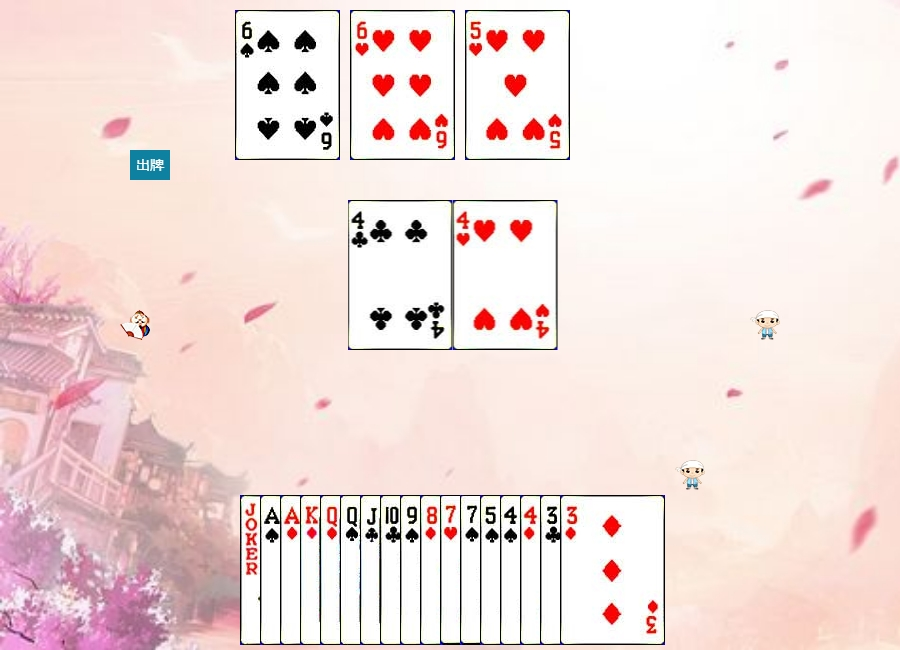10~2: (380, 495, 485, 645)
11~2: (360, 495, 465, 645)
12~1: (320, 495, 425, 645)
12~4: (340, 495, 445, 645)
13~1: (300, 495, 405, 645)
14~1: (280, 495, 385, 645)
14~4: (260, 495, 365, 645)
18~4: (240, 495, 345, 645)
3~1: (560, 495, 665, 645)
3~2: (540, 495, 645, 645)
4~1: (520, 495, 625, 645)
4~2: (348, 200, 453, 350)
4~3: (453, 200, 558, 350)
4~4: (500, 495, 605, 645)
5~3: (465, 10, 570, 160)
5~4: (480, 495, 585, 645)
6~3: (350, 10, 455, 160)
6~4: (235, 10, 340, 160)
7~3: (440, 495, 545, 645)
7~4: (460, 495, 565, 645)
8~1: (420, 495, 525, 645)
9~4: (400, 495, 505, 645)
